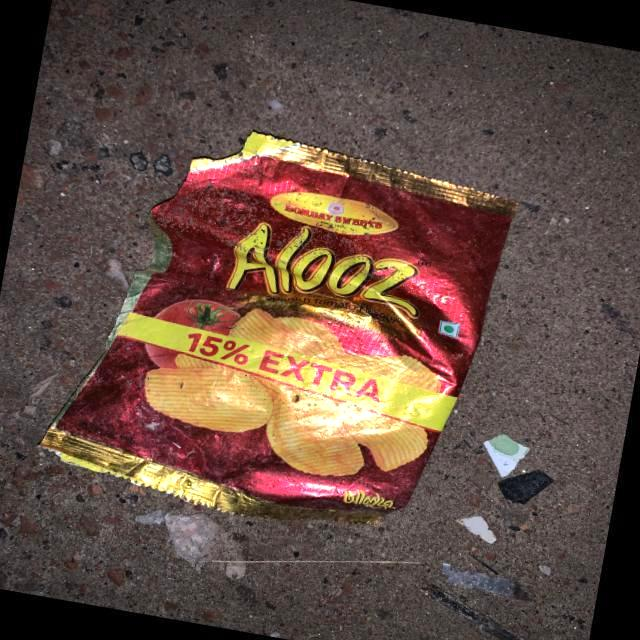packet: (84, 110, 503, 554)
